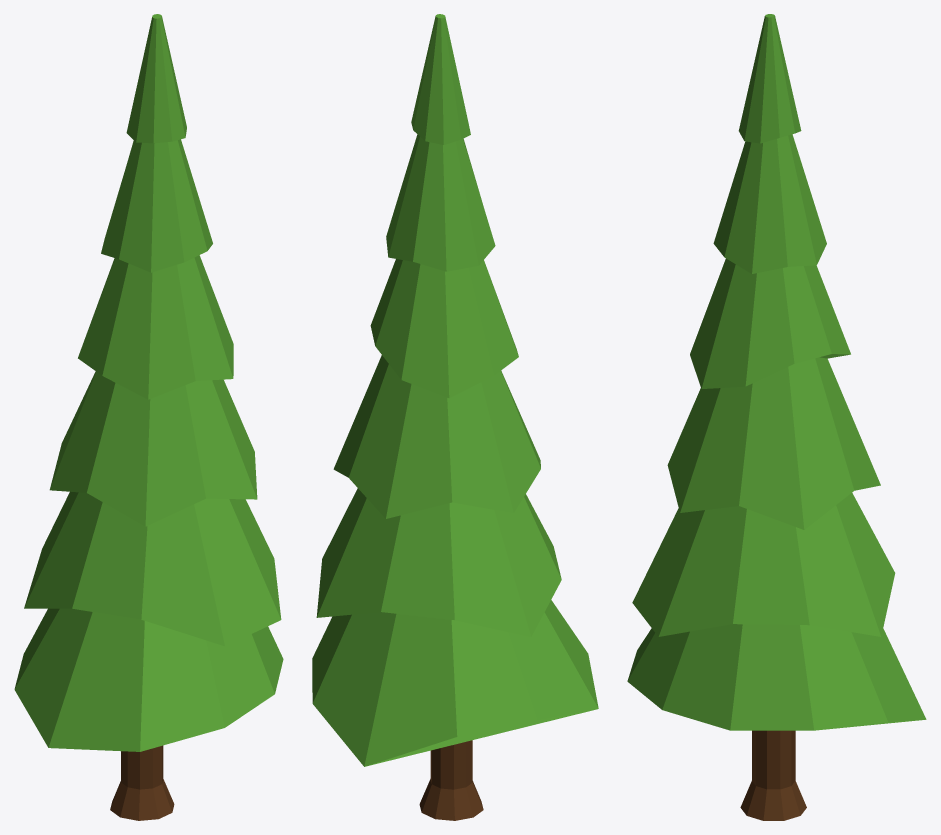
Rendered from Low_Poly_Tree.fbx.
The picture shows the model from 3 angles, left to right: view 1: azimuth 30°, elevation 25°; view 2: azimuth 150°, elevation 25°; view 3: azimuth 270°, elevation 25°; orthographic projection.
Visible parts, largest first — view 1: Cylinder; view 2: Cylinder; view 3: Cylinder.
Part boxes in pixels (<box>): Cylinder: <box>14,14,283,820</box>; Cylinder: <box>312,14,598,820</box>; Cylinder: <box>627,14,926,820</box>.
Bounding box in the file's own units: 207 × 649 × 220.
